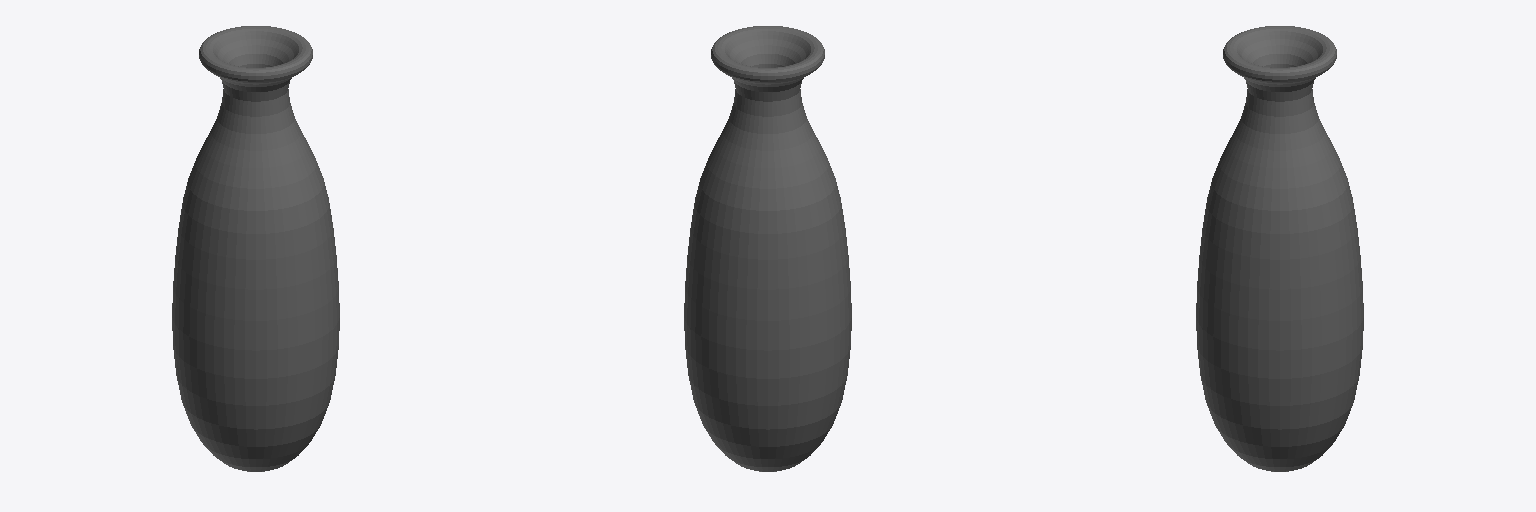
3 renders of one model, left to right at view 1: azimuth 30°, elevation 25°; view 2: azimuth 150°, elevation 25°; view 3: azimuth 270°, elevation 25°, orthographic.
Visible parts, largest first — view 1: Vase_011; view 2: Vase_011; view 3: Vase_011.
Boxes of the visible parts, x1,y1,x2,y2 form: Vase_011: [172, 26, 339, 471]; Vase_011: [684, 26, 851, 471]; Vase_011: [1196, 26, 1363, 471].
Size of the model in its own units: 3.19 by 8.74 by 3.19.